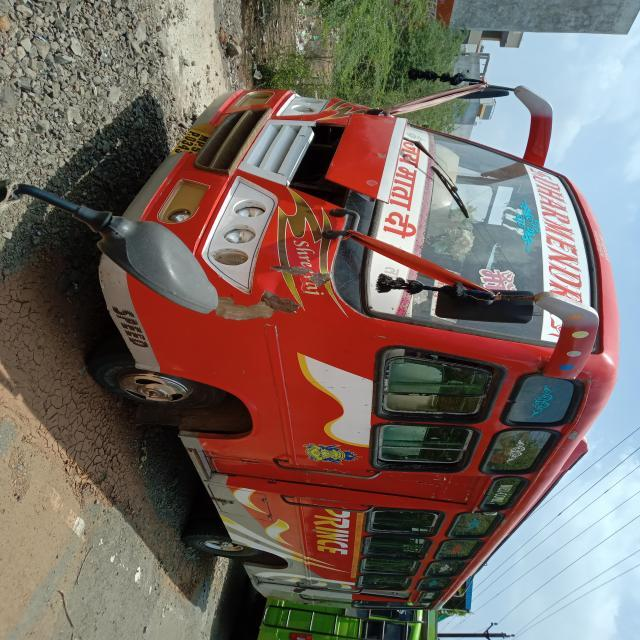Bus: (114, 33, 624, 640)
